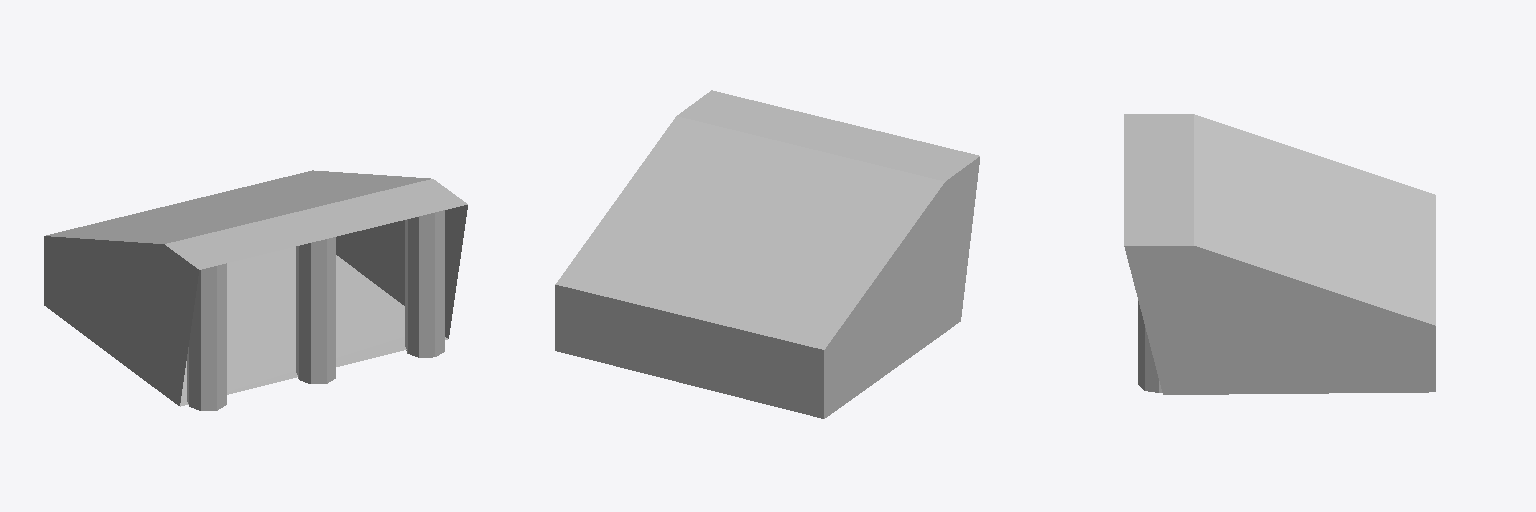
File: stable1f.obj
The picture shows the model from 3 angles: view 1: azimuth 30°, elevation 25°; view 2: azimuth 150°, elevation 25°; view 3: azimuth 270°, elevation 25°; orthographic projection.
Parts seen in each view (by area): view 1: Plane, Cube.001, Cube, Cube.002; view 2: Plane; view 3: Plane, Cube.001.
Part boxes in pixels (bbox=[...]): Plane: bbox=[44, 170, 467, 406]; Cube.001: bbox=[405, 210, 444, 357]; Cube: bbox=[296, 237, 335, 383]; Cube.002: bbox=[187, 263, 226, 410]; Plane: bbox=[555, 90, 979, 418]; Plane: bbox=[1124, 114, 1435, 394]; Cube.001: bbox=[1138, 301, 1161, 392].
Bounding box in the file's own units: 8.82 × 4.75 × 8.86.